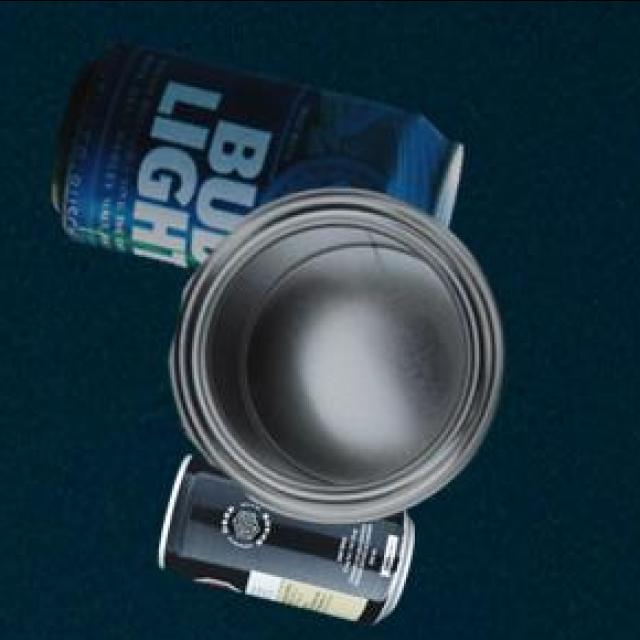logam: (167, 191, 502, 526), (50, 43, 460, 270), (156, 458, 412, 626)
